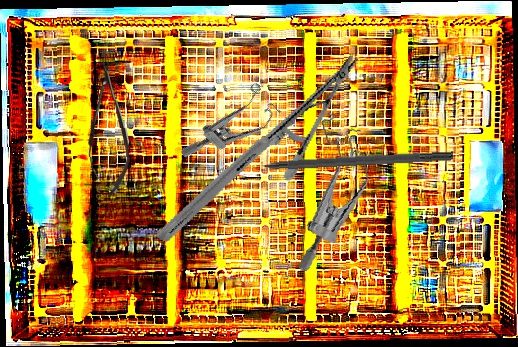Hook Surgical: (238, 148, 454, 173)
Micro Scissor: (84, 58, 132, 199)
Needle Holder: (155, 15, 361, 282)
Speculum: (270, 106, 387, 273), (178, 71, 290, 185)
